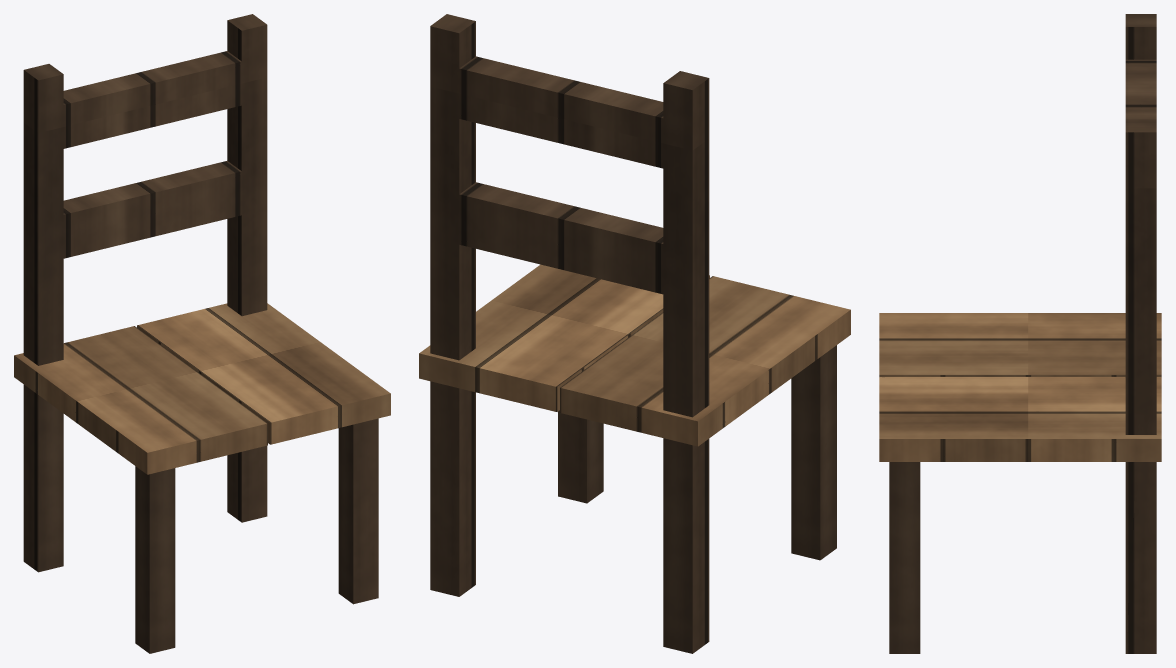
File: Chair_1_LOD1.gltf
The picture shows the model from 3 angles, left to right: view 1: azimuth 30°, elevation 25°; view 2: azimuth 150°, elevation 25°; view 3: azimuth 270°, elevation 25°; orthographic projection. The views are drawn at different scales.
Visible parts, largest first — view 1: Chair_1_LOD1; view 2: Chair_1_LOD1; view 3: Chair_1_LOD1.
Part boxes in pixels (left/top/right/bottom): Chair_1_LOD1: left=14, top=14, right=390, bottom=653; Chair_1_LOD1: left=419, top=14, right=850, bottom=653; Chair_1_LOD1: left=879, top=14, right=1161, bottom=653.
Bounding box in the file's own units: 0.58 × 1.12 × 0.55.
2 materials, 2 textured.
